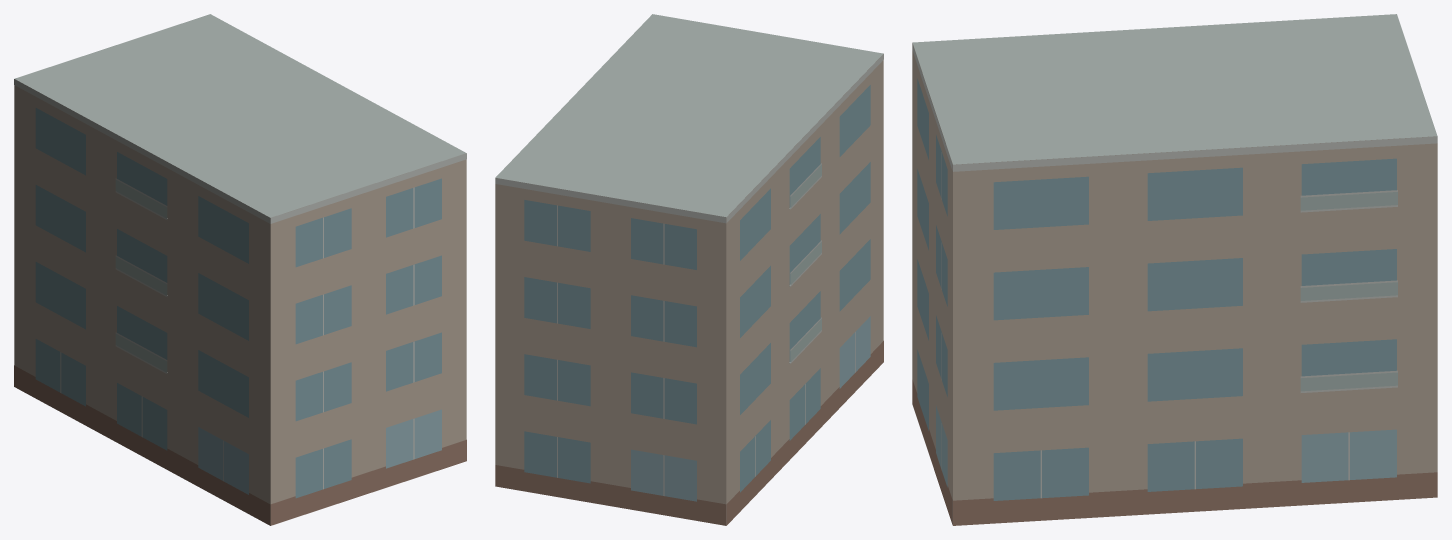
Rendered from survey-upis-32655829.glb.
3 renders of one model, left to right at view 1: azimuth 30°, elevation 25°; view 2: azimuth 150°, elevation 25°; view 3: azimuth 270°, elevation 25°, orthographic. The views are drawn at different scales.
Parts seen in each view (by area): view 1: survey-upis-32655829.tmp; view 2: survey-upis-32655829.tmp; view 3: survey-upis-32655829.tmp.
Boxes of the visible parts, <box> form: survey-upis-32655829.tmp: <box>14,14,466,525</box>; survey-upis-32655829.tmp: <box>495,14,883,525</box>; survey-upis-32655829.tmp: <box>912,14,1437,525</box>.
Size of the model in its own units: 10.92 by 12.2 by 16.08.
